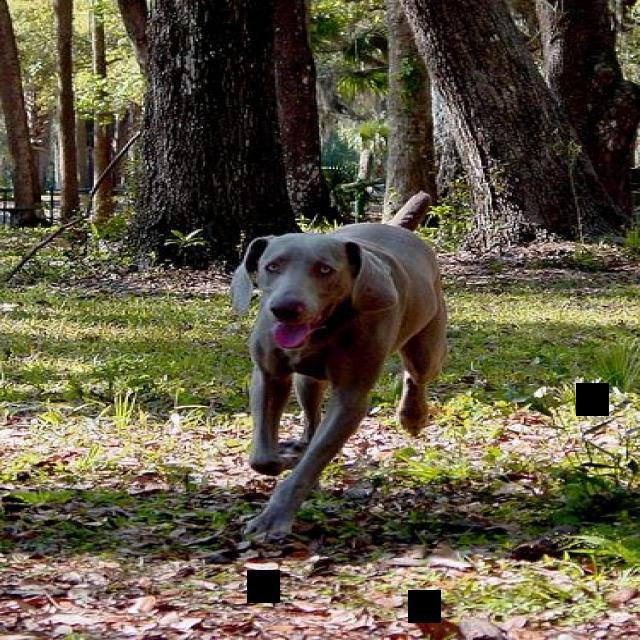adult_dog: (229, 189, 449, 543)
